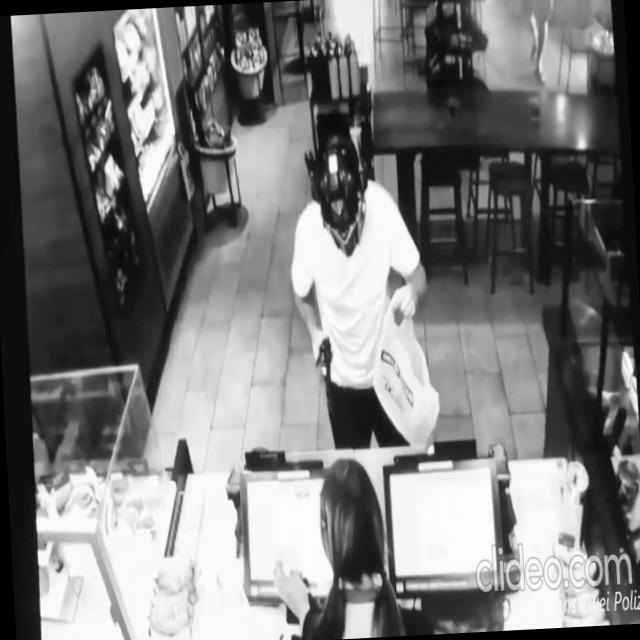gun: (318, 331, 336, 402)
person: (266, 450, 442, 640)
person with a gun: (282, 120, 436, 455)
